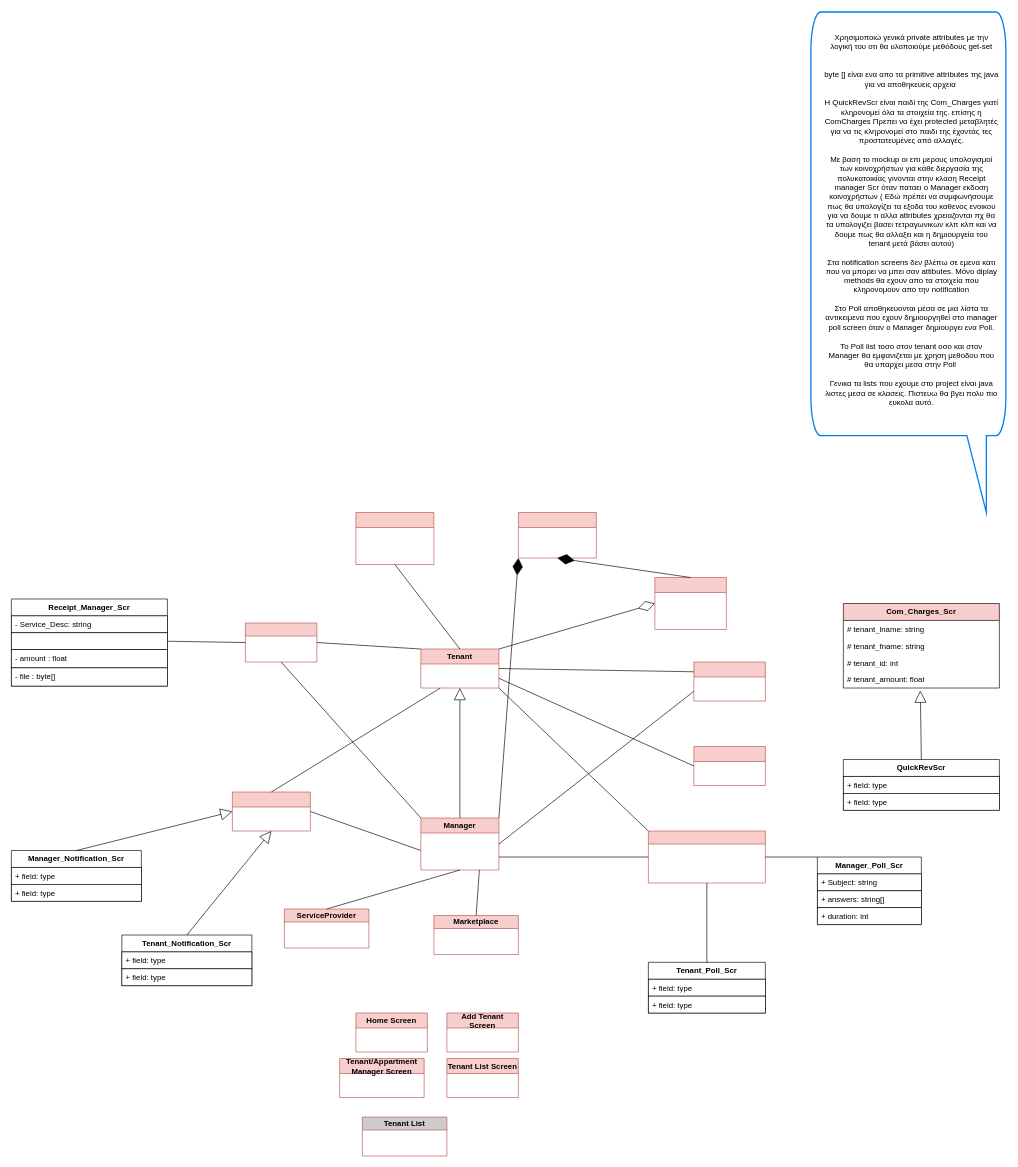
Some shapes in this 1018 by 1167 pixel diagram are drawn without their labels. Each missing label, with the centre of its shape:
- Service_id: int: point 89,641
Apartment: point 690,603
Building: point 557,535
ChatRoom: point 729,766
Complaint: point 394,538
Notification: point 271,811
Payment: point 729,681
Poll: point 706,856
Receipt: point 281,642
